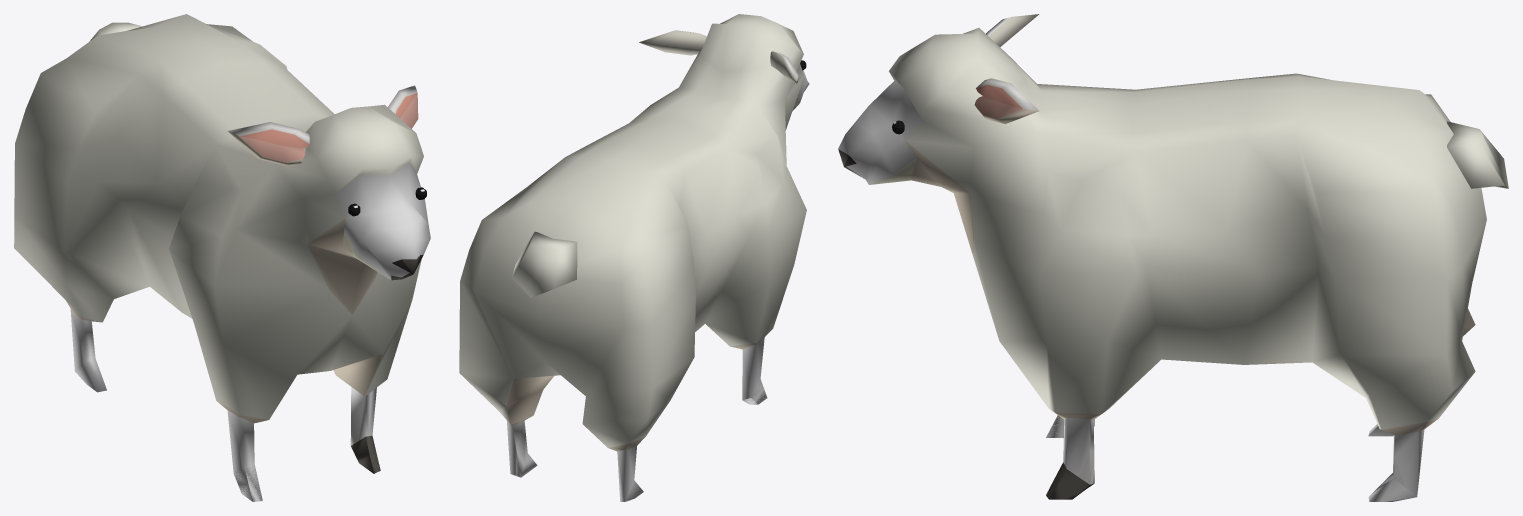
The model's file is Sheep_UV_01.fbx.
3 views of the same model, side by side, from view 1: azimuth 30°, elevation 25°; view 2: azimuth 150°, elevation 25°; view 3: azimuth 270°, elevation 25° (orthographic). The views are drawn at different scales.
Parts seen in each view (by area): view 1: polySurface19, polySurface18, polySurface13, polySurface7, polySurface16, polySurface8, polySurface11, polySurface17; view 2: polySurface19, polySurface13, polySurface14, polySurface16; view 3: polySurface19, polySurface18, polySurface14, polySurface7, polySurface8, polySurface15.
Part boxes in pixels (box(x1,y1,x2,y2)): polySurface19: box(14, 14, 426, 423); polySurface18: box(335, 163, 430, 280); polySurface13: box(227, 411, 254, 473); polySurface7: box(351, 387, 376, 441); polySurface16: box(70, 309, 95, 370); polySurface8: box(350, 417, 380, 473); polySurface11: box(234, 464, 262, 501); polySurface17: box(75, 358, 106, 392); polySurface19: box(459, 14, 806, 451); polySurface13: box(742, 337, 764, 399); polySurface14: box(507, 421, 527, 477); polySurface16: box(617, 446, 636, 501); polySurface19: box(889, 14, 1508, 435); polySurface18: box(838, 81, 922, 184); polySurface14: box(1393, 430, 1424, 496); polySurface7: box(1063, 417, 1094, 476); polySurface8: box(1046, 451, 1094, 499); polySurface15: box(1368, 473, 1416, 501).
Size of the model in its own units: 53.2 by 89.28 by 127.
